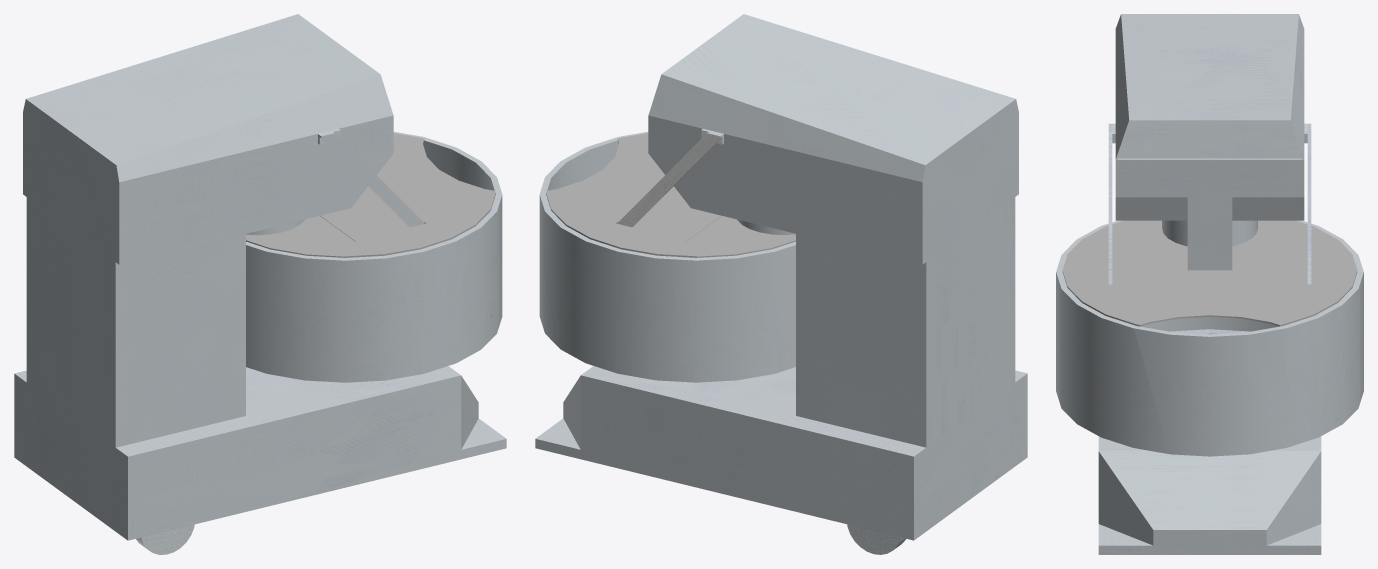
File: petrin.glb
3 views of the same model, side by side, from view 1: azimuth 30°, elevation 25°; view 2: azimuth 150°, elevation 25°; view 3: azimuth 270°, elevation 25° (orthographic). The views are drawn at different scales.
Parts seen in each view (by area): view 1: instance_0.002, instance_0.004, instance_0, instance_0.001, instance_0.051, instance_0.003; view 2: instance_0.002, instance_0.004, instance_0, instance_0.001, instance_0.005, instance_0.003; view 3: instance_0.002, instance_0.004, instance_0, instance_0.001, instance_0.011, instance_0.020.
Part boxes in pixels (<box>): instance_0.002: <box>14,14,506,540</box>; instance_0.004: <box>246,131,502,382</box>; instance_0: <box>246,133,495,257</box>; instance_0.001: <box>246,140,494,235</box>; instance_0.051: <box>319,132,424,227</box>; instance_0.003: <box>136,524,194,554</box>; instance_0.002: <box>535,14,1027,540</box>; instance_0.004: <box>539,131,795,382</box>; instance_0: <box>546,133,795,257</box>; instance_0.001: <box>547,140,795,235</box>; instance_0.005: <box>617,132,722,227</box>; instance_0.003: <box>847,524,905,554</box>; instance_0.002: <box>1098,14,1321,554</box>; instance_0.004: <box>1056,220,1363,456</box>; instance_0: <box>1062,220,1357,326</box>; instance_0.001: <box>1141,220,1278,331</box>; instance_0.011: <box>1307,130,1311,284</box>; instance_0.020: <box>1108,130,1112,284</box>.
Size of the model in its own units: 1.35 by 1.32 by 0.897.
5 materials, 1 textured.
